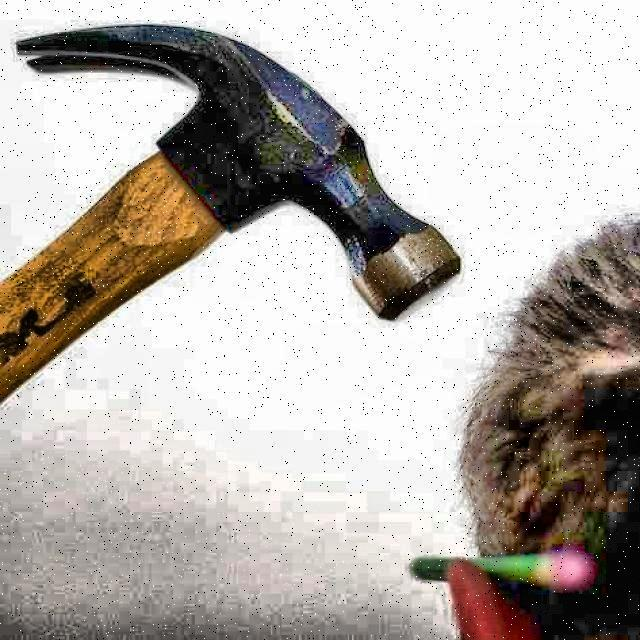hammer: (0, 17, 464, 410)
